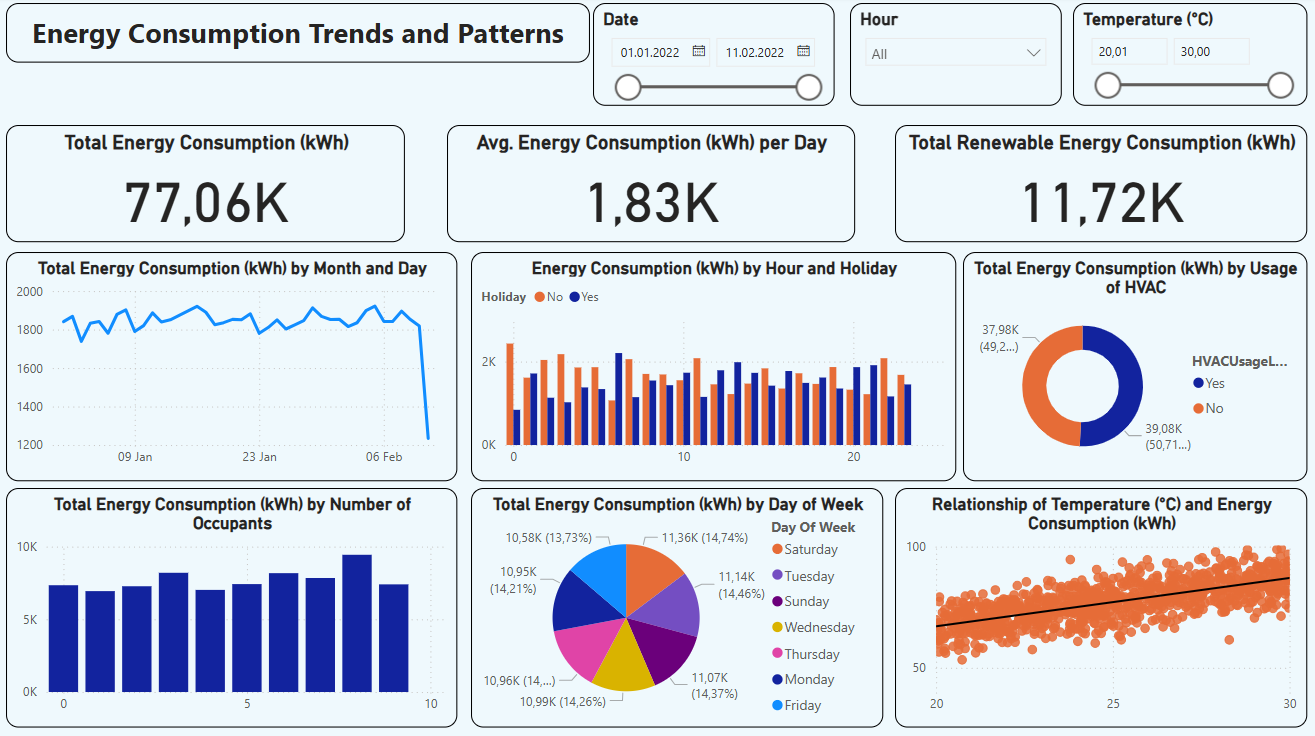

The page's visual inventory and layout, read from the dashboard file:
{"tool":"powerbi","page":{"name":"Page 1","canvas":[1280,720],"ordinal":0},"visuals":[{"type":"textbox","box":[5.8,5.8,568,58.4],"z":0},{"type":"card","title":"Total Energy Consumption (kWh)","fields":{"Values":["Sum(Energy_consumption_transformed.EnergyConsumption)"]},"box":[5.8,124.5,388.1,113.8],"z":1},{"type":"card","title":"Avg. Energy Consumption (kWh) per Day","fields":{"Values":["Energy_consumption_transformed.Avg Energy Consumption Per Day"]},"box":[434.8,124.5,396.8,113.8],"z":2},{"type":"lineChart","title":"Total Energy Consumption (kWh) by Month and Day","fields":{"Y":["Sum(Energy_consumption_transformed.EnergyConsumption)"],"Category":["Energy_consumption_transformed.Date.Variation.Date Hierarchy.Year","Energy_consumption_transformed.Date.Variation.Date Hierarchy.Quarter","Energy_consumption_transformed.Date.Variation.Date Hierarchy.Month","Energy_consumption_transformed.Date.Variation.Date Hierarchy.Day"]},"box":[5.8,248,438.7,222.7],"z":7},{"type":"clusteredColumnChart","title":"Energy Consumption (kWh) by Hour and Holiday","fields":{"Category":["Energy_consumption_transformed.Hour"],"Y":["Sum(Energy_consumption_transformed.EnergyConsumption)"],"Series":["Energy_consumption_transformed.HolidayLabel"]},"box":[458.1,248,471.7,222.7],"z":8},{"type":"pieChart","title":"Total Energy Consumption (kWh) by Day of Week","fields":{"Category":["Energy_consumption_transformed.DayOfWeek"],"Y":["Sum(Energy_consumption_transformed.EnergyConsumption)"]},"box":[458.1,477.6,400.7,233.4],"z":9},{"type":"scatterChart","title":"Relationship of Temperature (°C) and Energy Consumption (kWh)","fields":{"X":["Energy_consumption_transformed.Temperature"],"Y":["Energy_consumption_transformed.EnergyConsumption"]},"box":[870.5,477.6,400.7,233.4],"z":10},{"type":"clusteredColumnChart","title":"Total Energy Consumption (kWh) by Number of Occupants","fields":{"Category":["Energy_consumption_transformed.Occupancy"],"Y":["Sum(Energy_consumption_transformed.EnergyConsumption)"]},"box":[5.8,477.6,438.7,233.4],"z":11},{"type":"card","title":"Total Renewable Energy Consumption (kWh)","fields":{"Values":["Sum(Energy_consumption_transformed.Amount of Renewable Energy)"]},"box":[870.5,124.5,400.7,113.8],"z":12},{"type":"donutChart","title":"Total Energy Consumption (kWh) by Usage of HVAC","fields":{"Y":["Sum(Energy_consumption_transformed.EnergyConsumption)"],"Category":["Energy_consumption_transformed.HVACUsageLabel"]},"box":[936.7,248,334.6,222.7],"z":13},{"type":"slicer","title":"Date","fields":{"Values":["Energy_consumption_transformed.Date"]},"box":[576.8,5.8,235.4,100.2],"z":14},{"type":"slicer","title":"Temperature (°C)","fields":{"Values":["Energy_consumption_transformed.Temperature"]},"box":[1043.6,5.8,227.6,100.2],"z":15},{"type":"slicer","title":"Hour","fields":{"Values":["Energy_consumption_transformed.Hour"]},"box":[826.7,5.8,206.2,100.2],"z":16}]}

Visuals, with their boxes in screenshot pixels (x1, y1, x2, y2), scaled from the page's 1280x720 canvas onto the 1315x736 screenshot:
textbox: region(6, 6, 589, 66)
"Total Energy Consumption (kWh)" card: region(6, 127, 405, 244)
"Avg. Energy Consumption (kWh) per Day" card: region(447, 127, 854, 244)
"Total Energy Consumption (kWh) by Month and Day" lineChart: region(6, 254, 457, 481)
"Energy Consumption (kWh) by Hour and Holiday" clusteredColumnChart: region(471, 254, 955, 481)
"Total Energy Consumption (kWh) by Day of Week" pieChart: region(471, 488, 882, 727)
"Relationship of Temperature (°C) and Energy Consumption (kWh)" scatterChart: region(894, 488, 1306, 727)
"Total Energy Consumption (kWh) by Number of Occupants" clusteredColumnChart: region(6, 488, 457, 727)
"Total Renewable Energy Consumption (kWh)" card: region(894, 127, 1306, 244)
"Total Energy Consumption (kWh) by Usage of HVAC" donutChart: region(962, 254, 1306, 481)
"Date" slicer: region(593, 6, 834, 108)
"Temperature (°C)" slicer: region(1072, 6, 1306, 108)
"Hour" slicer: region(849, 6, 1061, 108)
